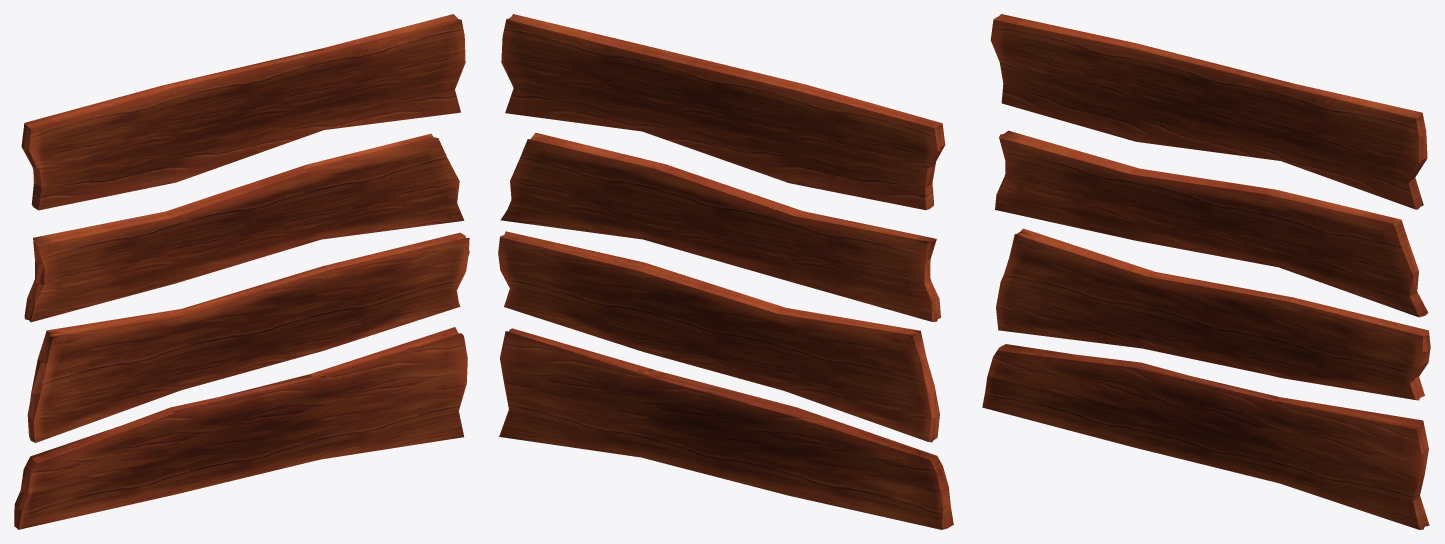
The model's file is Tablas de Madera Fin.FBX.
The picture shows the model from 3 angles, left to right: view 1: azimuth 30°, elevation 25°; view 2: azimuth 150°, elevation 25°; view 3: azimuth 330°, elevation 25°; orthographic projection.
Parts seen in each view (by area): view 1: Tabla1; view 2: Tabla1; view 3: Tabla1.
Part boxes in pixels (box(x1,y1,x2,y2)): Tabla1: box(14, 14, 469, 529); Tabla1: box(498, 14, 953, 529); Tabla1: box(982, 14, 1430, 529).
Size of the model in its own units: 73.19 by 65.06 by 2.76.
Materials: 1 (1 with a texture image).
